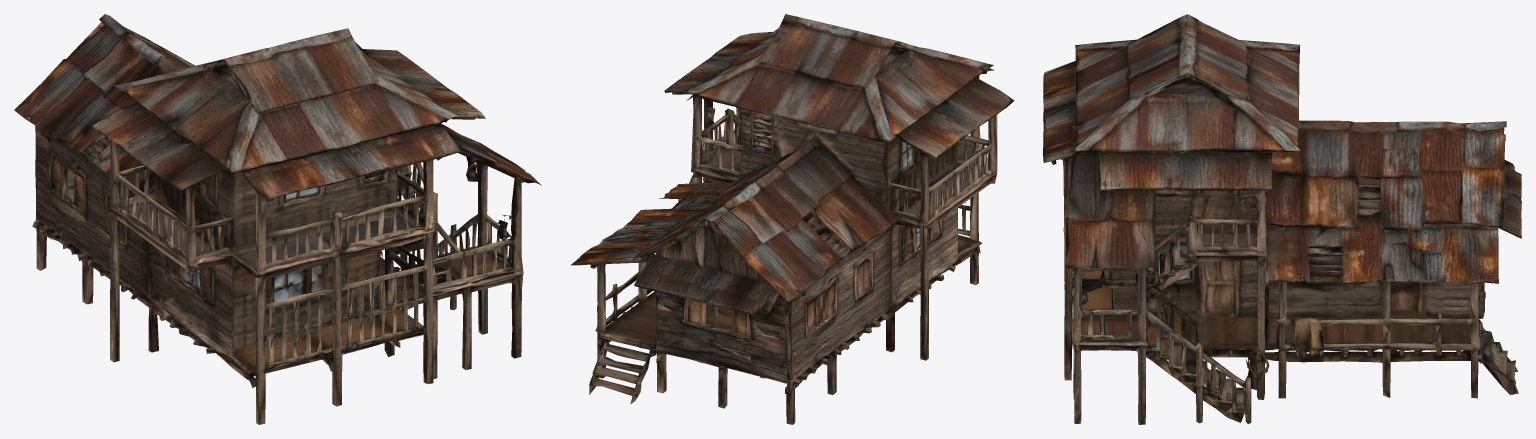
Rendered from rusty-house.zfix-v9.lod0.glb.
The picture shows the model from 3 angles, left to right: view 1: azimuth 30°, elevation 25°; view 2: azimuth 150°, elevation 25°; view 3: azimuth 270°, elevation 25°; orthographic projection. The views are drawn at different scales.
Visible parts, largest first — view 1: Object_4; view 2: Object_4; view 3: Object_4.
Boxes of the visible parts, x1,y1,x2,y2 form: Object_4: (14, 14, 541, 424); Object_4: (571, 14, 1014, 424); Object_4: (1043, 14, 1521, 424).
Size of the model in its own units: 7.95 by 6.92 by 10.
1 material, 1 textured.
